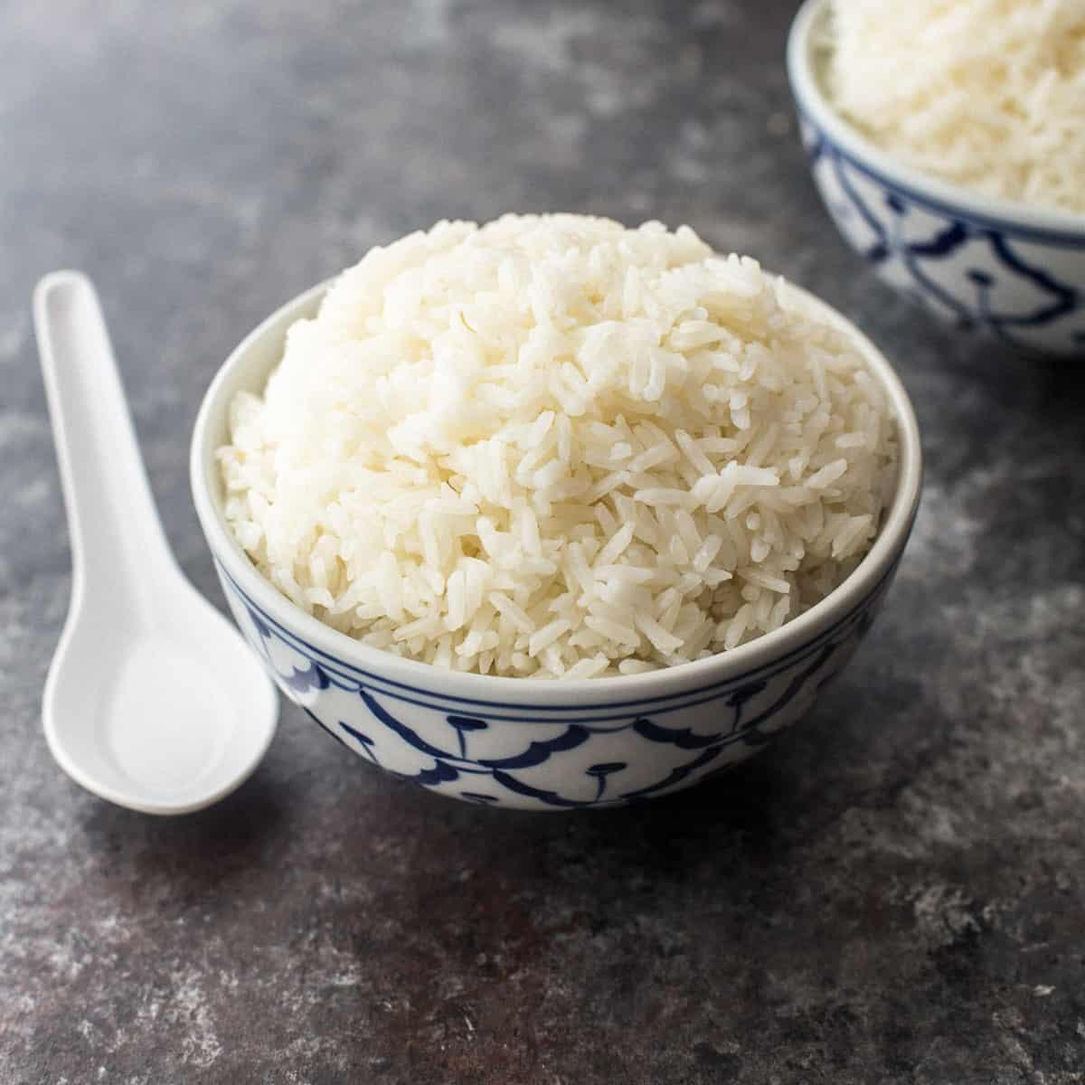rice: (212, 206, 906, 675), (823, 8, 1082, 212)
